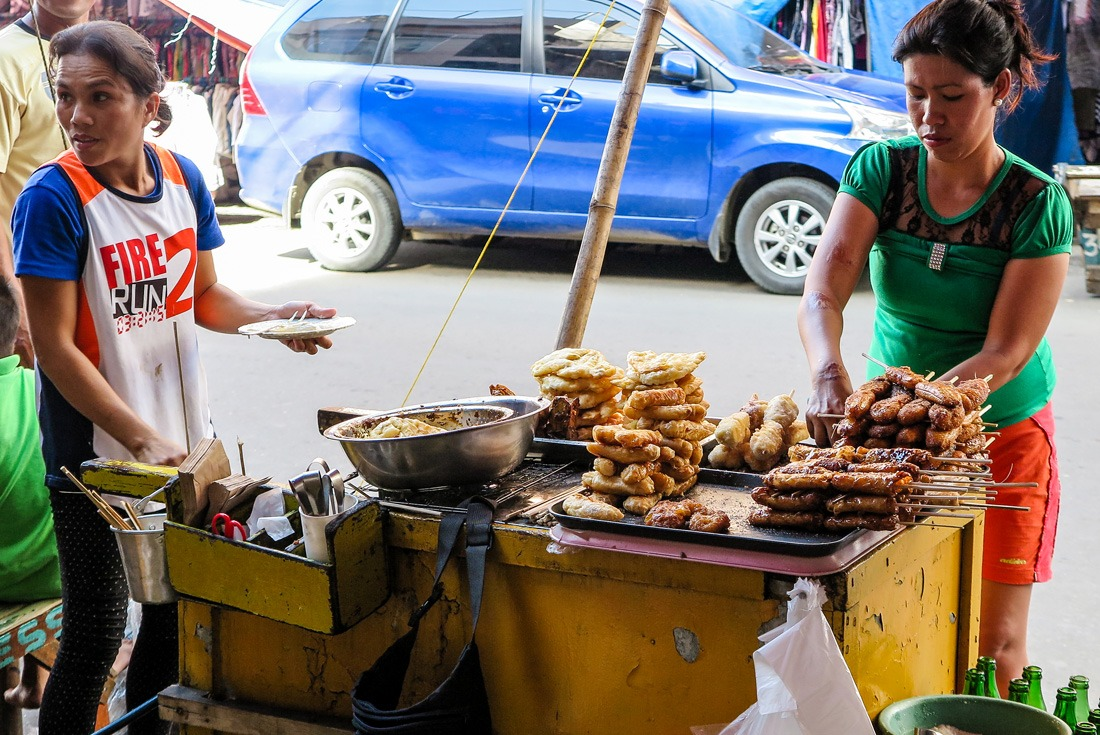car: (240, 1, 955, 292)
cart: (78, 353, 981, 735)
person: (24, 24, 344, 735), (816, 1, 1100, 666)
